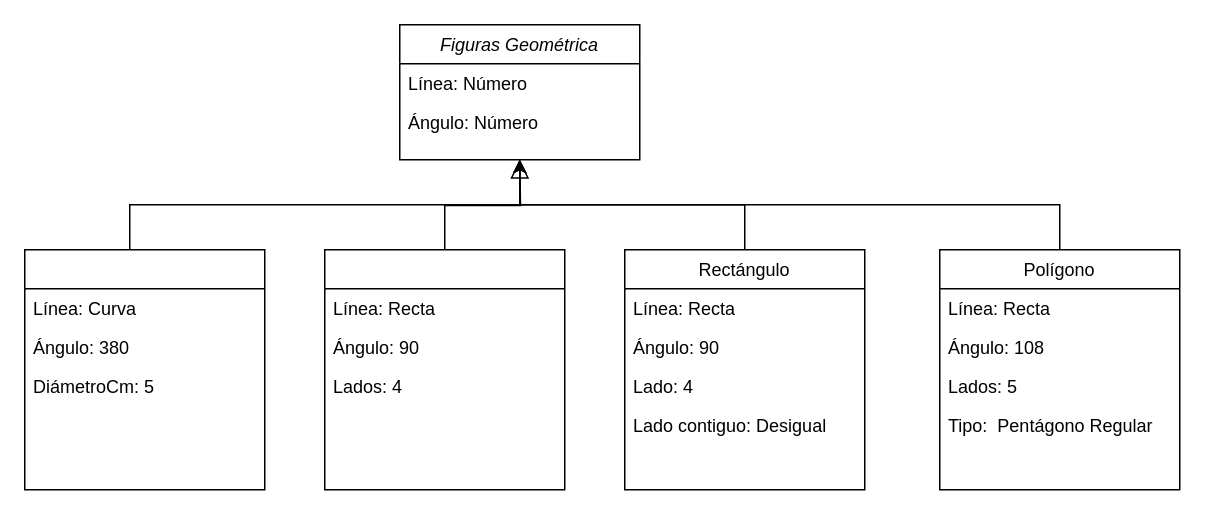
Some shapes in this 1205 by 515 pixel diagram are drawn without their labels. The shapes that lost their labels are listed below. From the top down, each one's box as (x1, y1, x2, y2) in pixels, then its label:
(23, 248, 265, 490): Círculo
(323, 248, 565, 490): Cuadrado
